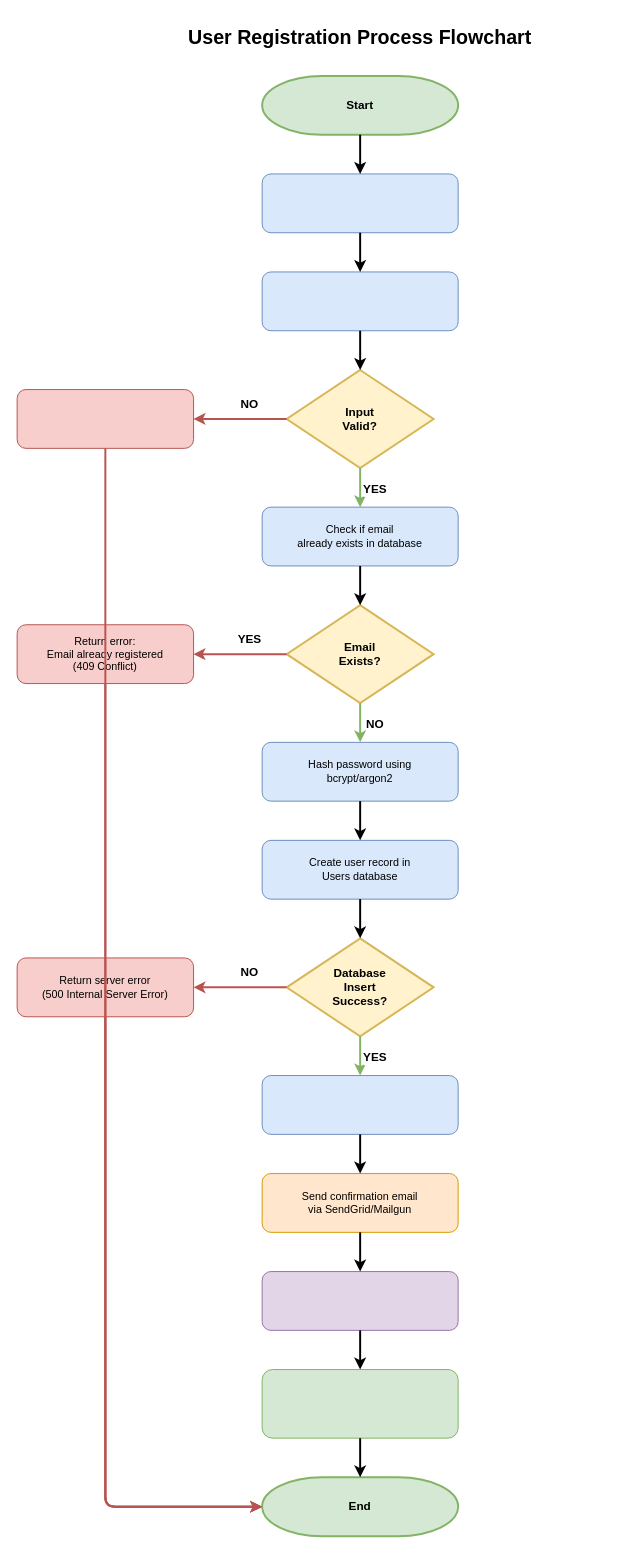
The diagram is 622 pixels wide and 1553 high, and some of its shapes have lost their labels. The centre of each missing label's shape, as x and y in pixels:
Generate JWT token with user ID and role: point 359,1104
Log registration event for analytics: point 359,1300
Return success response: {user: {...}, token: "..."} (201 Created): point 359,1403
Return validation error (400 Bad Request): point 105,418
User submits registration form (email, password, name, role): point 359,203
Validate input data (format, required fields): point 359,301
